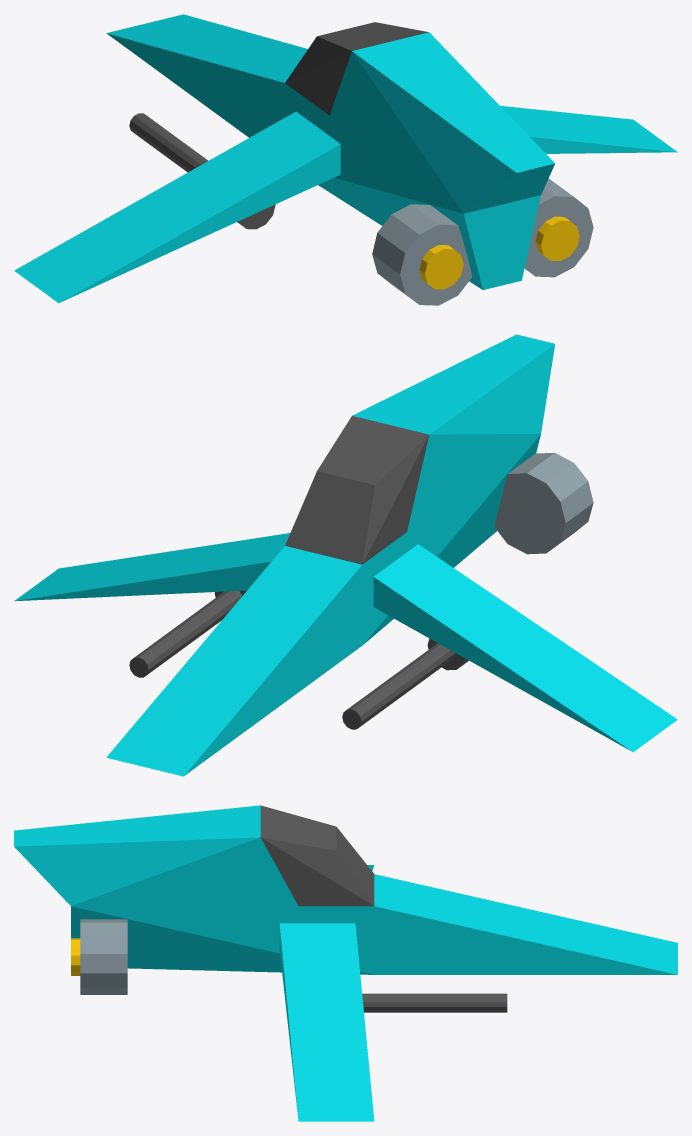
File: simple-ship.glb
The picture shows the model from 3 angles, top to bottom: view 1: azimuth 30°, elevation 25°; view 2: azimuth 150°, elevation 25°; view 3: azimuth 270°, elevation 25°; orthographic projection. The views are drawn at different scales.
Visible parts, largest first — view 1: group490813972, group1035474707, group58831490, group1342822209, group1559436868, group468379739, group2055187189, group1818223117, group1116891639, group271678934, group881168780, group564426609; view 2: group58831490, group1035474707, group490813972, group2055187189, group468379739, group1342822209, group1559436868, group1116891639, group1283861049; view 3: group490813972, group58831490, group468379739, group1342822209, group2055187189, group1818223117, group1283861049.
Boxes of the visible parts, x1=… form: group490813972: x1=329, y1=32, x2=554, y2=213; group1035474707: x1=14, y1=111, x2=340, y2=303; group58831490: x1=106, y1=14, x2=307, y2=137; group1342822209: x1=285, y1=83, x2=540, y2=289; group1559436868: x1=372, y1=204, x2=471, y2=305; group468379739: x1=500, y1=105, x2=677, y2=153; group2055187189: x1=285, y1=22, x2=428, y2=115; group1818223117: x1=524, y1=178, x2=593, y2=277; group1116891639: x1=129, y1=113, x2=208, y2=172; group271678934: x1=419, y1=245, x2=463, y2=289; group881168780: x1=535, y1=216, x2=579, y2=261; group564426609: x1=237, y1=204, x2=275, y2=229; group58831490: x1=106, y1=546, x2=362, y2=776; group1035474707: x1=373, y1=544, x2=677, y2=752; group490813972: x1=352, y1=334, x2=555, y2=531; group2055187189: x1=285, y1=416, x2=429, y2=564; group468379739: x1=14, y1=533, x2=290, y2=601; group1342822209: x1=362, y1=434, x2=540, y2=645; group1559436868: x1=494, y1=452, x2=593, y2=554; group1116891639: x1=342, y1=643, x2=455, y2=729; group1283861049: x1=129, y1=591, x2=242, y2=677; group490813972: x1=14, y1=805, x2=298, y2=906; group58831490: x1=374, y1=874, x2=677, y2=974; group468379739: x1=279, y1=923, x2=374, y2=1121; group1342822209: x1=71, y1=906, x2=374, y2=974; group2055187189: x1=260, y1=805, x2=374, y2=906; group1818223117: x1=80, y1=919, x2=127, y2=994; group1283861049: x1=362, y1=993, x2=507, y2=1012.
Bounding box in the file's own units: 0.64 × 0.2 × 0.7.
